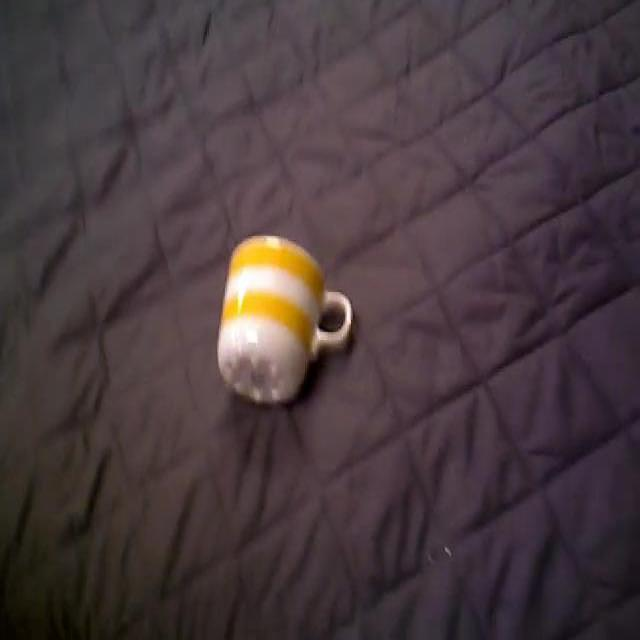cup: (213, 235, 362, 409)
